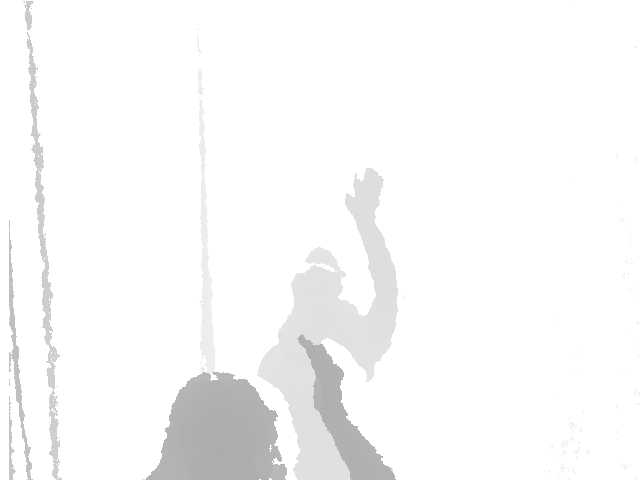hand: (296, 330, 345, 414), (342, 168, 387, 226)
head: (155, 373, 288, 480), (288, 248, 344, 311)
person: (125, 333, 397, 480), (252, 166, 400, 407)
